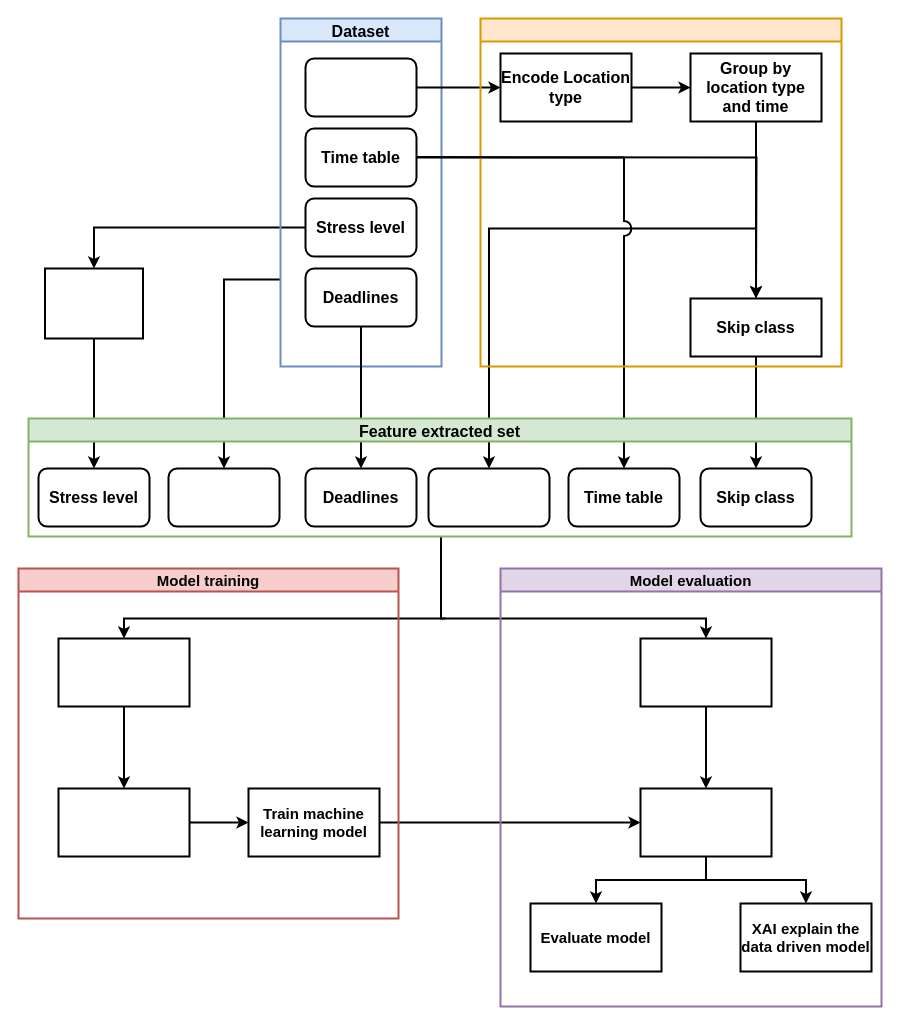
Some shapes in this 899 by 1024 pixel diagram are drawn without their labels. Each missing label, with the centre of its shape:
Data balancing: the point at 123,822
Feature extraction: the point at 660,192
GPS: the point at 360,87
Machine learning model: the point at 705,822
Relabel stress level: the point at 94,303
Test set: the point at 705,672
Time: the point at 223,497
Time spent on each location type and time: the point at 488,497
Train set: the point at 123,672
